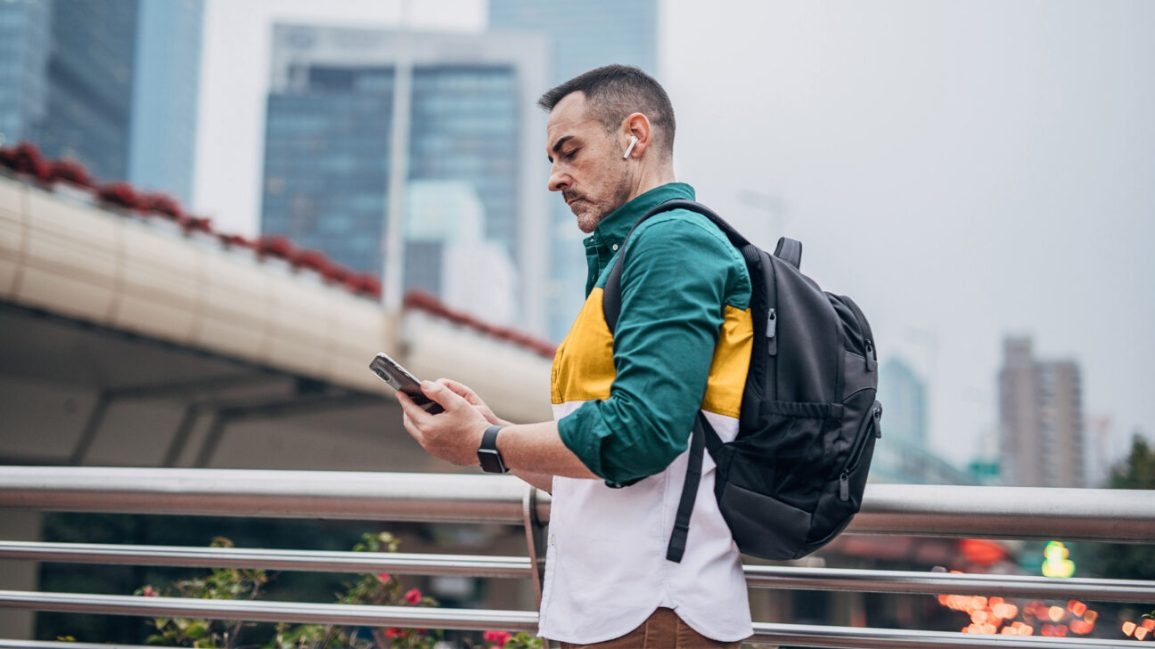earphone: (619, 113, 651, 160)
